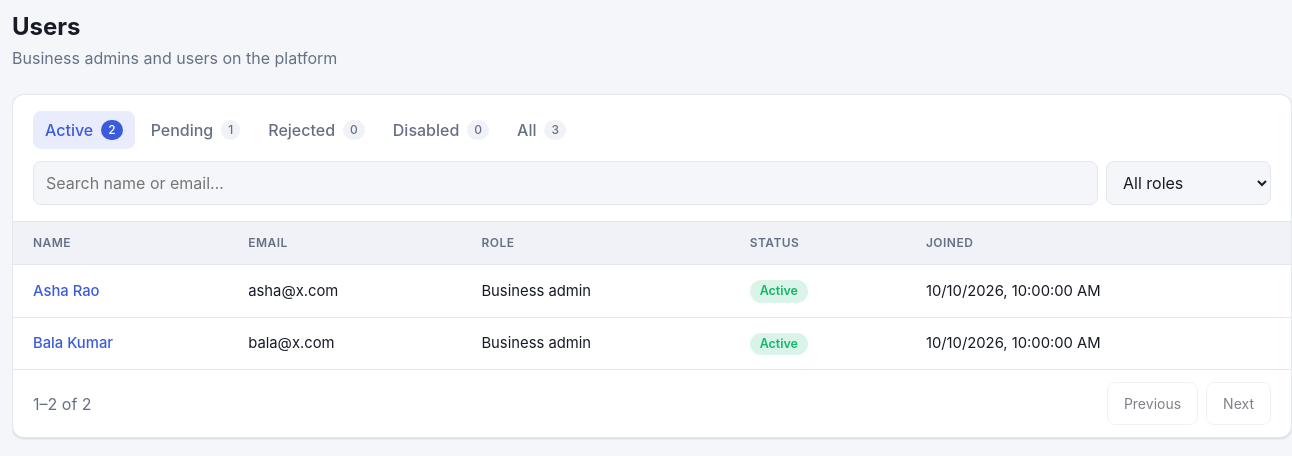
Scenario: UsersPage › filters by status tab
Expected: the button "Asha Rao" is shown, 33,280 -> 100,302
Click the tab "Pending 1" at [195, 130], box 139,111 -> 252,149
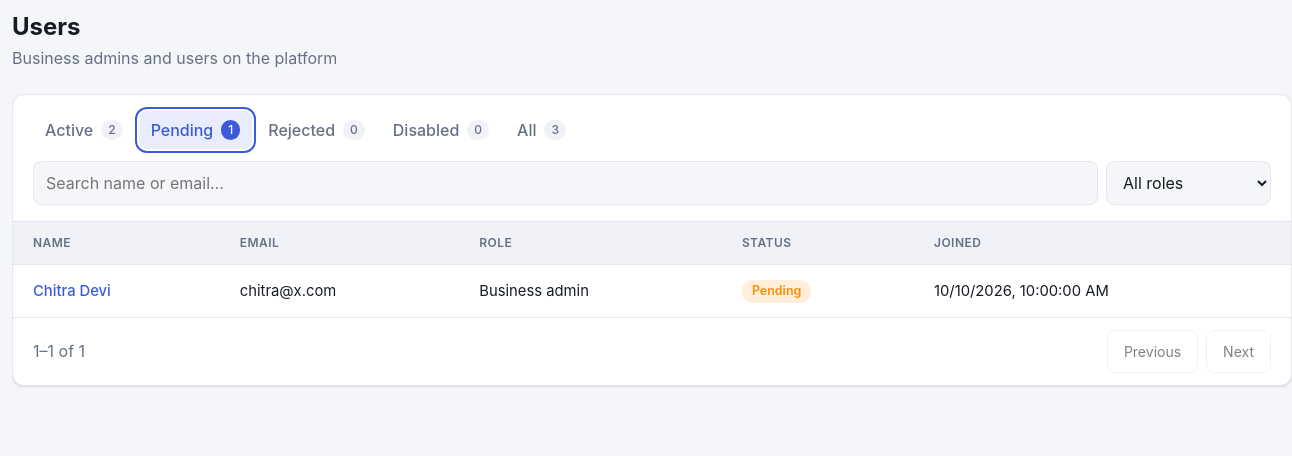
Now the button "Chitra Devi" is shown, box 33,280 -> 111,302
Now the button "Asha Rao" is gone
